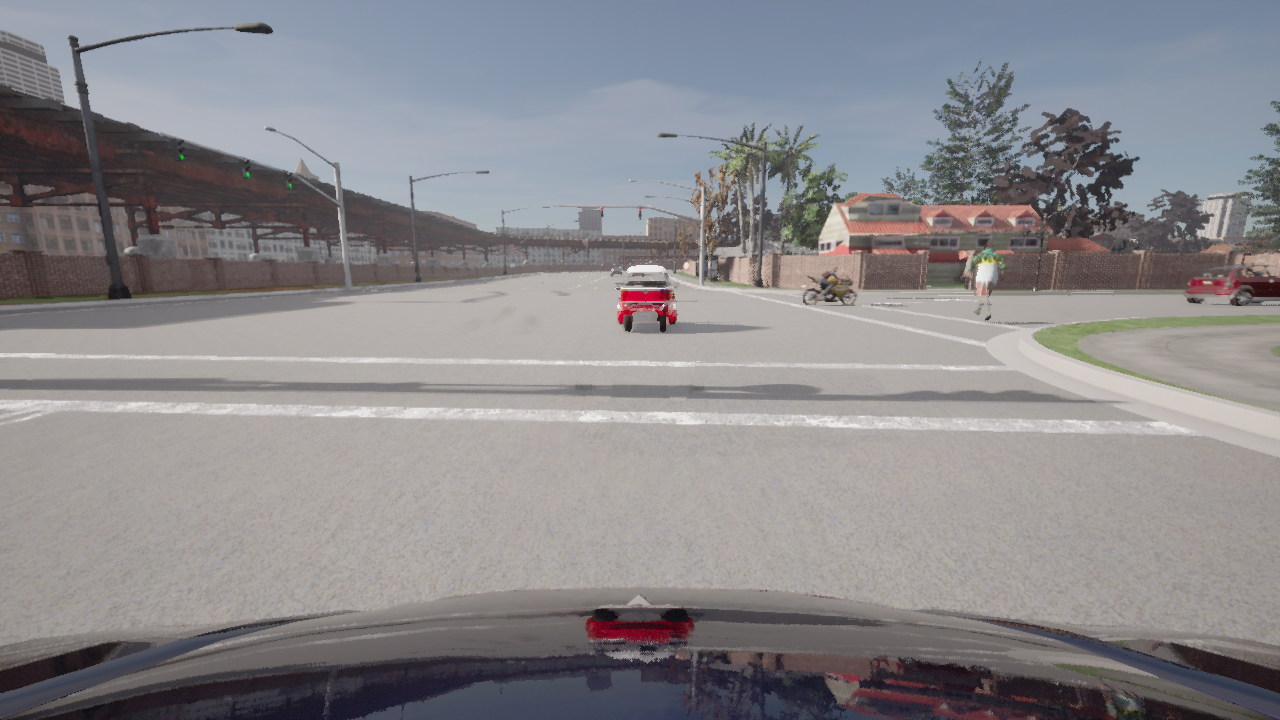cyclist: (0, 588, 1279, 719), (615, 266, 678, 331), (1184, 264, 1279, 305), (801, 273, 858, 305), (611, 267, 623, 275)
pedestrian: (961, 242, 1007, 320)
